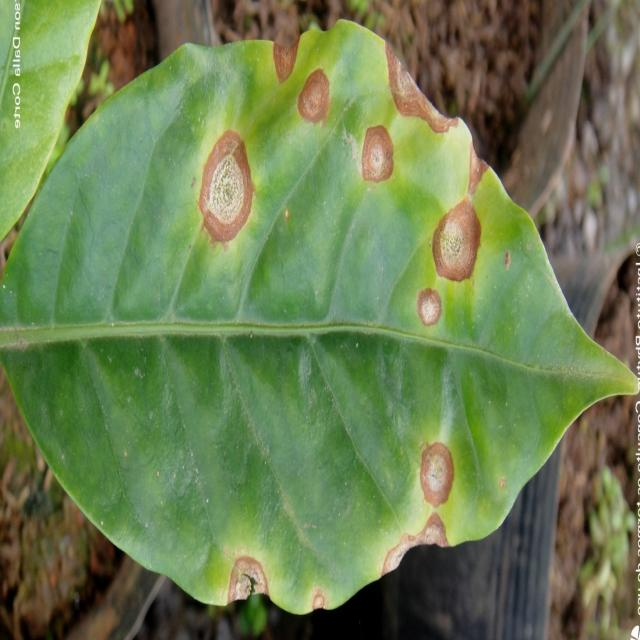Enfermedad-Mancha-de-hierro: (0, 22, 640, 617)
